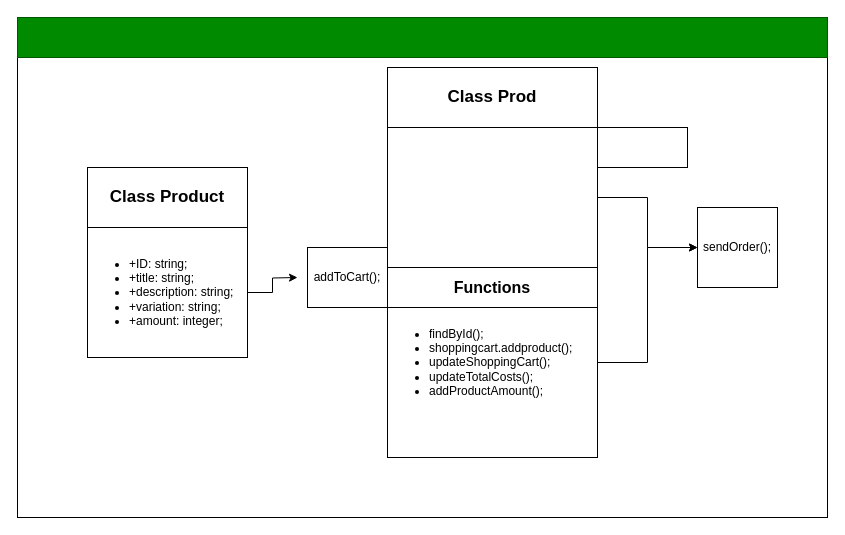
This 845x535 diagram has some shape labels left out. The box of each missing label's shape, as (x1, y1, x2, y2) in pixels:
* [Class Product]: (596, 126, 688, 168)
+products [ ] * +subtotal +delivery +discount +voucher +total bill: (386, 126, 598, 268)
How a product is created and its price calculated: (16, 16, 828, 58)
